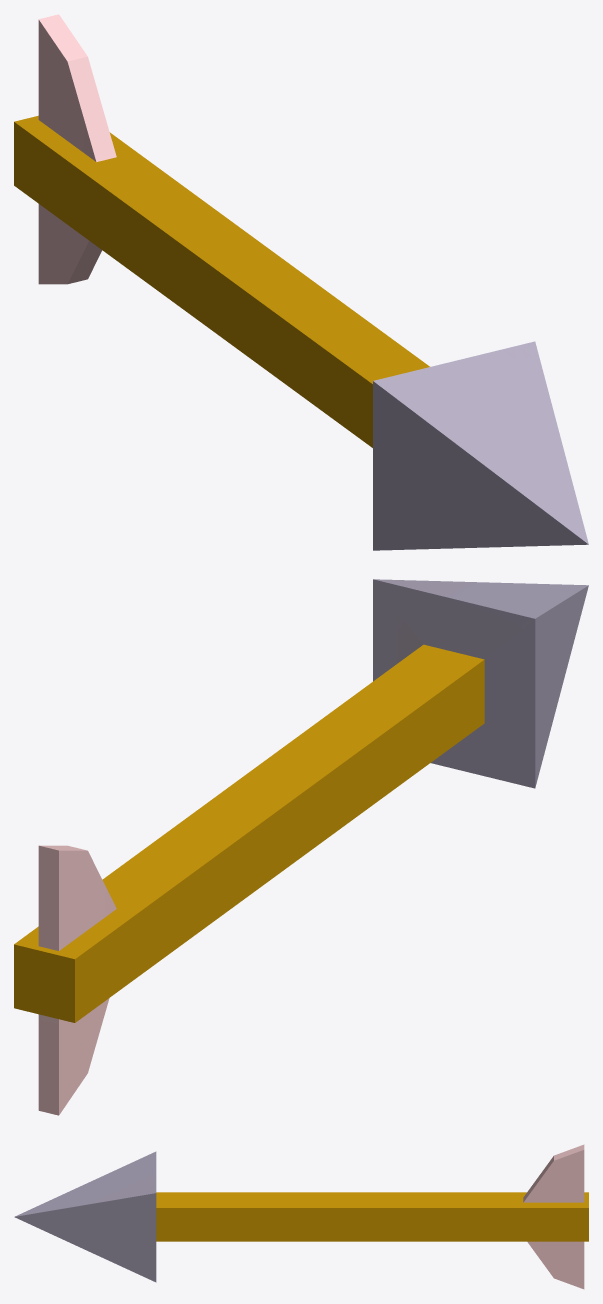
File: Arrow.fbx
3 renders of one model, top to bottom at view 1: azimuth 30°, elevation 25°; view 2: azimuth 150°, elevation 25°; view 3: azimuth 270°, elevation 25°, orthographic. The views are drawn at different scales.
Visible parts, largest first — view 1: Arrow; view 2: Arrow; view 3: Arrow.
Boxes of the visible parts, left/top/right/bottom form: Arrow: left=14, top=14, right=588, bottom=550; Arrow: left=14, top=579, right=588, bottom=1115; Arrow: left=14, top=1144, right=588, bottom=1289.
Bounding box in the file's own units: 4.23 × 6.61 × 24.6.
1 material, 1 textured.
